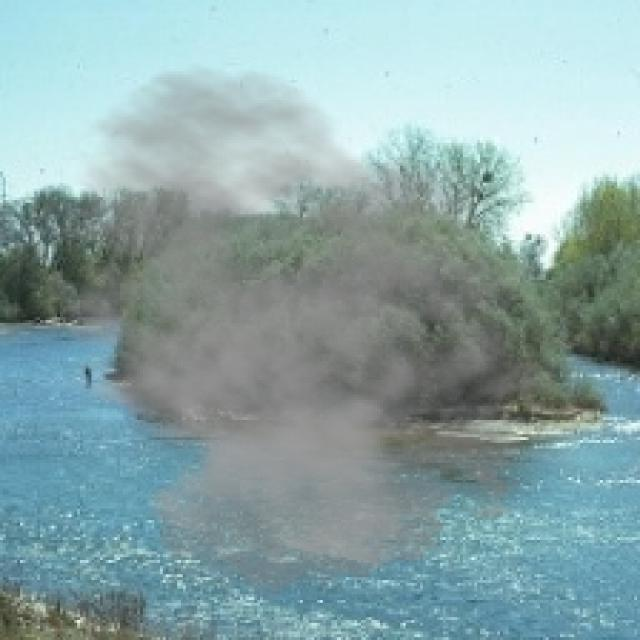Smoke: (9, 63, 578, 606)
